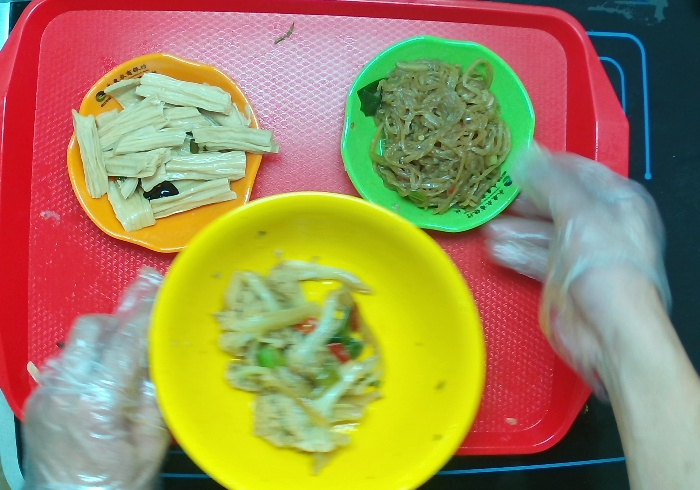YKMZ-Huang_Se_Tang_Wan: (146, 189, 488, 490)
YKMZ-Ju_Se_Ao_Bian_Wan: (65, 51, 265, 255)
YKMZ-Lv_Se_Ao_Bian_Wan: (338, 33, 537, 234)
